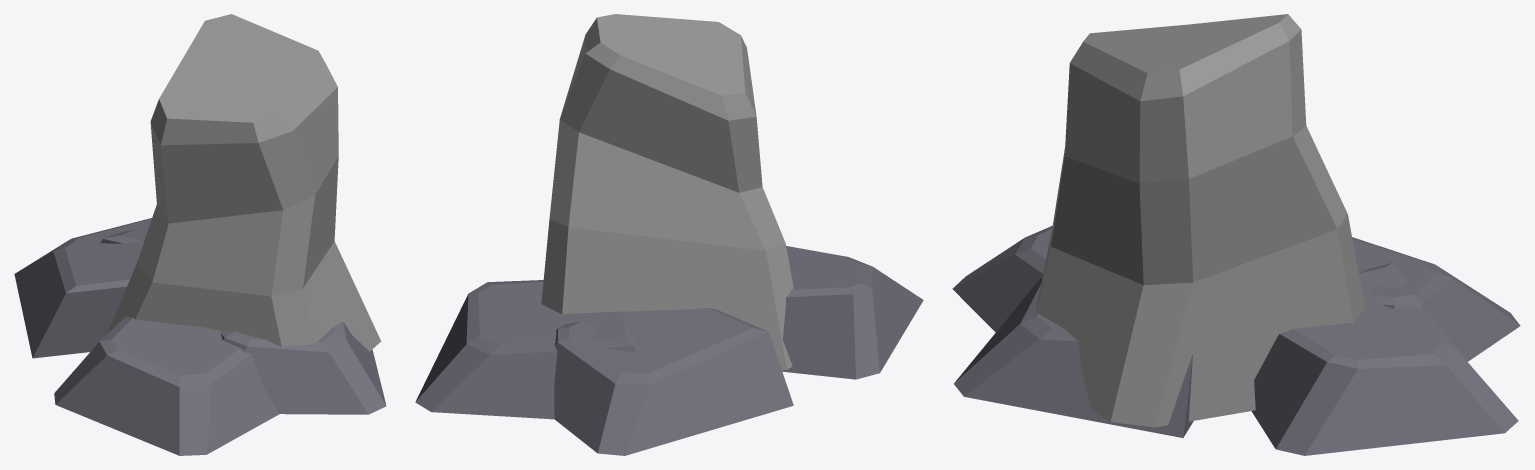
The model's file is RockPatch#2.fbx.
3 renders of one model, left to right at view 1: azimuth 30°, elevation 25°; view 2: azimuth 150°, elevation 25°; view 3: azimuth 270°, elevation 25°, orthographic. The views are drawn at different scales.
Parts seen in each view (by area): view 1: RockPatch#2; view 2: RockPatch#2; view 3: RockPatch#2.
Boxes of the visible parts, <box> form: RockPatch#2: <box>14,14,386,455</box>; RockPatch#2: <box>415,14,923,455</box>; RockPatch#2: <box>952,14,1520,455</box>.
Bounding box in the file's own units: 934 × 772 × 1103.
